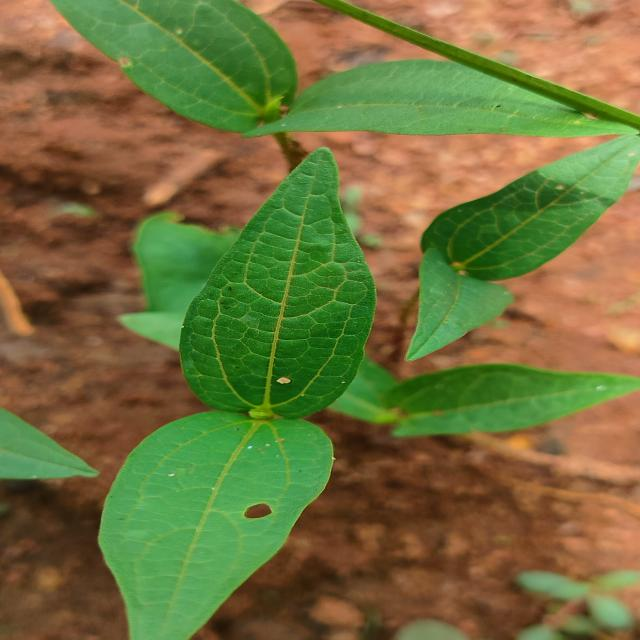Black gram_healthy: (102, 411, 338, 640), (184, 144, 366, 413), (264, 45, 640, 150), (43, 0, 304, 132), (423, 132, 640, 274), (380, 360, 640, 428), (395, 242, 519, 370)
